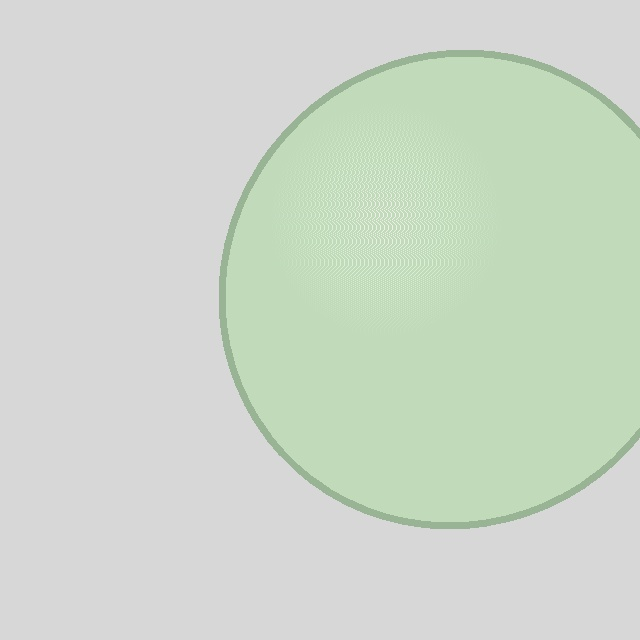lens: (222, 53, 640, 525)
